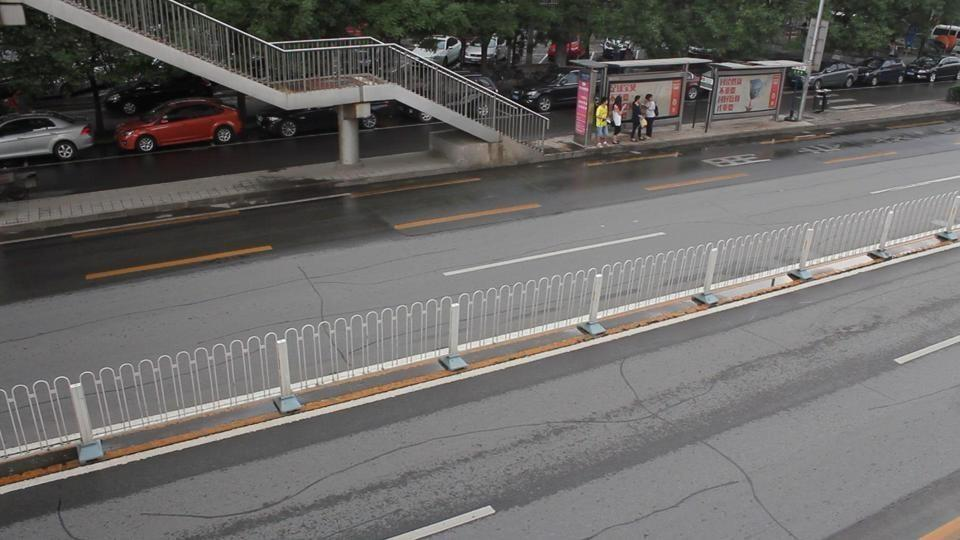car: (113, 97, 243, 153), (1, 113, 95, 165), (103, 78, 216, 115), (509, 68, 585, 113), (412, 34, 464, 68), (807, 63, 868, 90), (852, 60, 907, 87), (925, 55, 960, 83), (903, 59, 937, 80)
